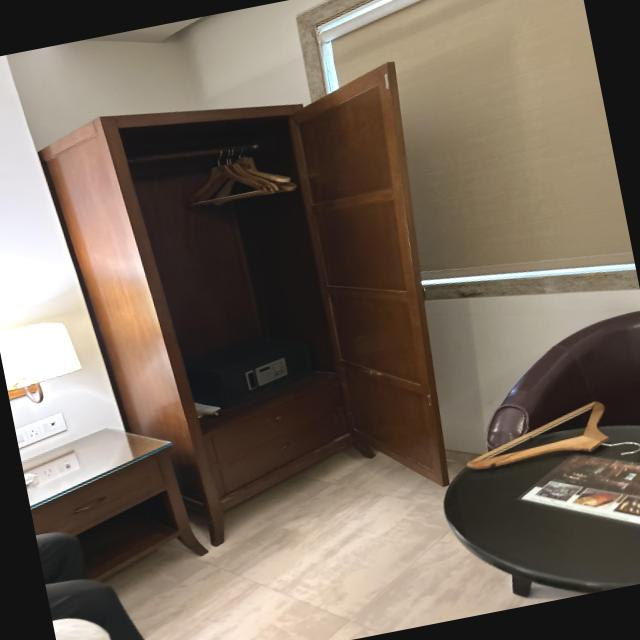mess: (422, 391, 640, 591)
